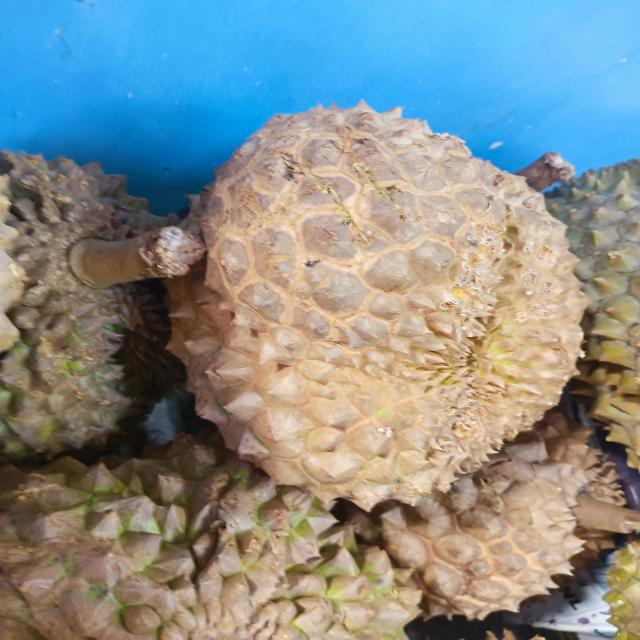mature: (171, 102, 575, 496), (0, 428, 416, 640), (1, 156, 195, 452)
